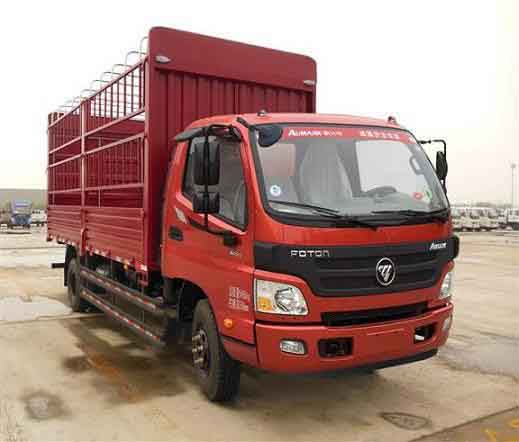smalltruck: (47, 45, 463, 405)
